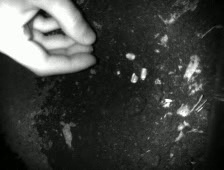corn: (137, 65, 150, 82), (129, 71, 140, 84), (123, 51, 137, 61), (114, 68, 122, 76)
